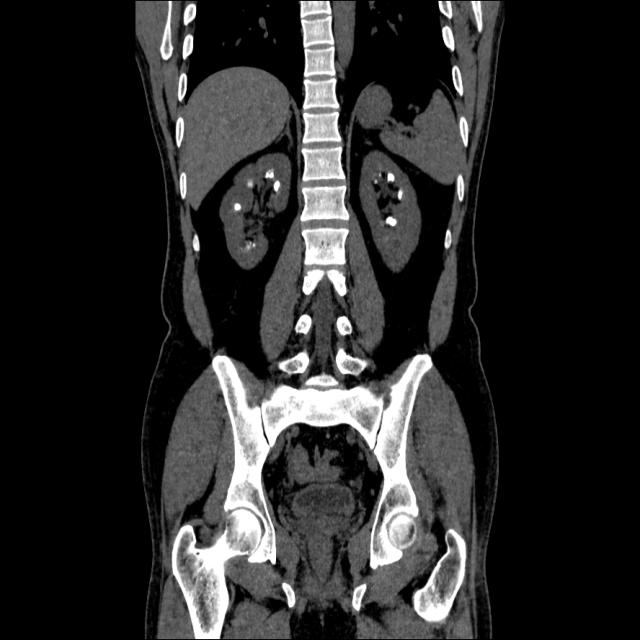kidneystone: (385, 216, 396, 226), (265, 170, 274, 178), (388, 171, 394, 181), (274, 181, 280, 191), (245, 241, 255, 247), (234, 204, 241, 211), (371, 173, 376, 180), (399, 190, 402, 200), (378, 170, 384, 174), (249, 181, 252, 189)
